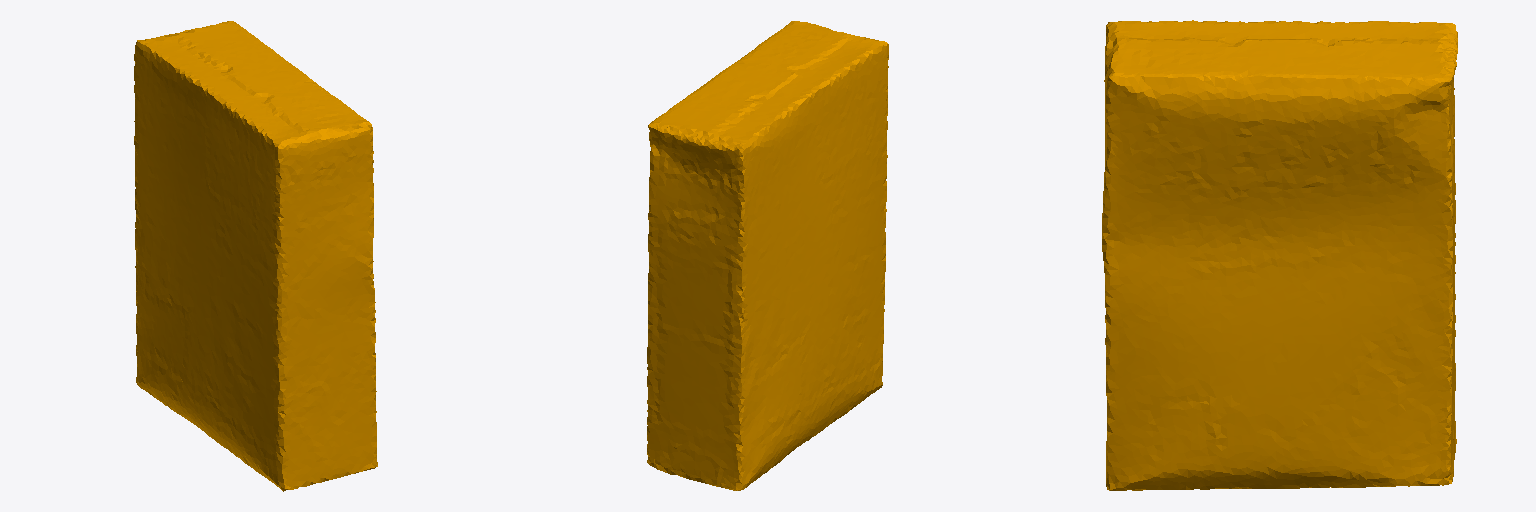
robot.urdf — model.urdf:
<?xml version="0.0" ?>
<robot name="model.urdf">
  <link name="baseLink">
    <contact>
      <lateral_friction value="1.0"/>
      <rolling_friction value="0.0"/>
      <contact_cfm value="0.0"/>
      <contact_erp value="1.0"/>
    </contact>
    <inertial>
       <origin rpy="0 0 0" xyz="0.03 0.0 -0.06"/>
       <mass value=".411"/>
       <inertia ixx="1e-3" ixy="0" ixz="0" iyy="1e-3" iyz="0" izz="1e-3"/>
    </inertial>
    <visual>
      <geometry>
        <mesh filename="textured_simple_reoriented.obj" scale="1 1 1"/>
      </geometry>
    </visual>
    <collision>
      <geometry>
    	 	<mesh filename="collision_vhacd.obj" scale="1 1 1"/>
      </geometry>
    </collision>
  </link>
</robot>

--- Render facts (derived) ---
The picture shows the robot from 3 angles, left to right: view 1: azimuth 30°, elevation 25°; view 2: azimuth 150°, elevation 25°; view 3: azimuth 270°, elevation 25°; orthographic projection.
Robot: model.urdf — 1 links, 0 joints (none); root link baseLink; default pose: every joint at zero.
Links seen in each view (by area): view 1: baseLink; view 2: baseLink; view 3: baseLink.
Link boxes in pixels (x1=…): baseLink: x1=134, y1=21, x2=377, y2=491; baseLink: x1=647, y1=21, x2=888, y2=490; baseLink: x1=1102, y1=20, x2=1457, y2=490.
Bounding box of the posed robot: 0.0717 × 0.164 × 0.2135 m (x, y, z).
1 mesh visuals loaded from 1 distinct referenced files (1 OBJ).